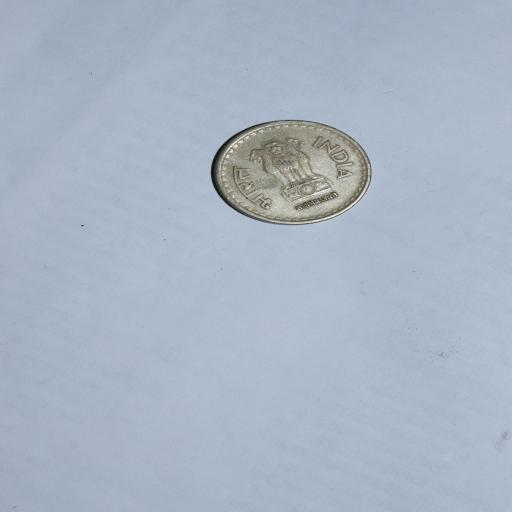rupee5: (206, 118, 373, 226)
